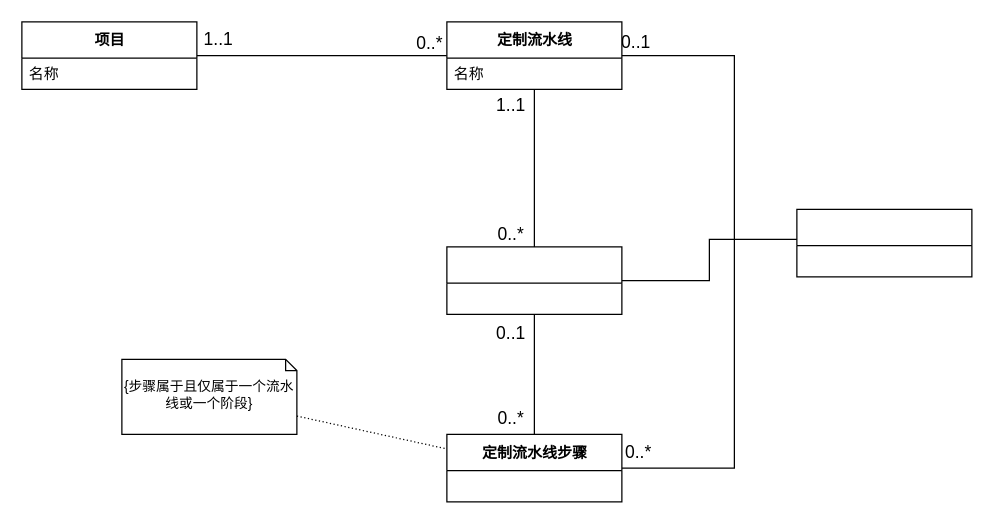
This 994x524 diagram has some shape labels left out. Each missing label, with the centre of its shape:
"定制流水线子项" goes at (x=884, y=242).
"定制流水线阶段" goes at (x=534, y=280).
